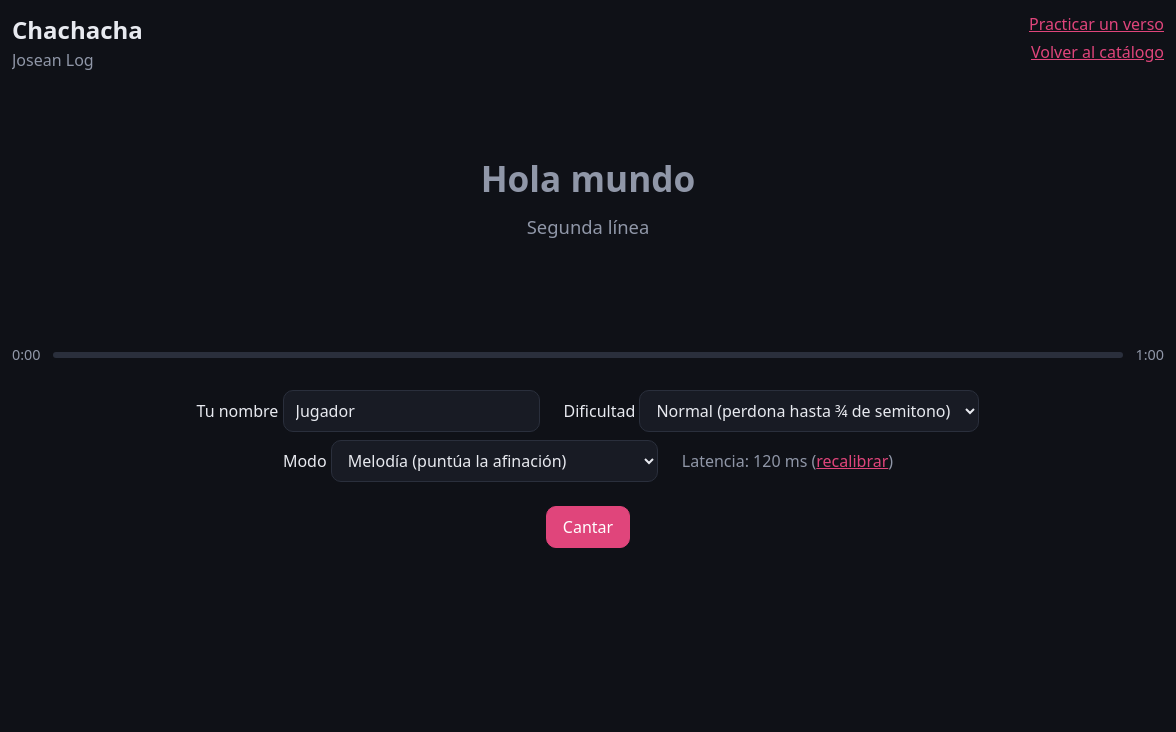
Test case: SongPage › starts a session with the player name and calibrated latency
Expected: the text "Latencia: 120 ms ( recalibrar )" is shown, [682,449,893,473]
Step 1. Replace the text in the field labelled "Tu nombre" with " Ana " → (411, 411), box [282,390,540,432]
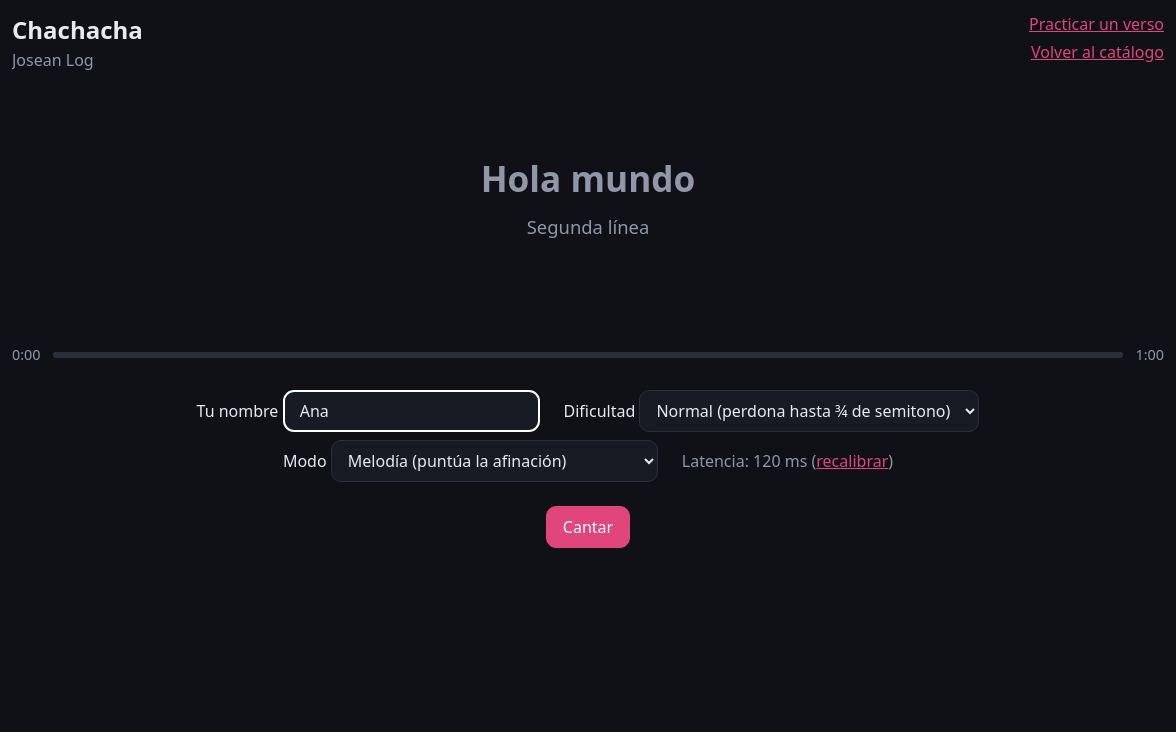
Step 2. Select "Fácil (perdona hasta 1 semitono)" in the dropdown labelled "Dificultad" → (810, 411), box [640,390,980,432]
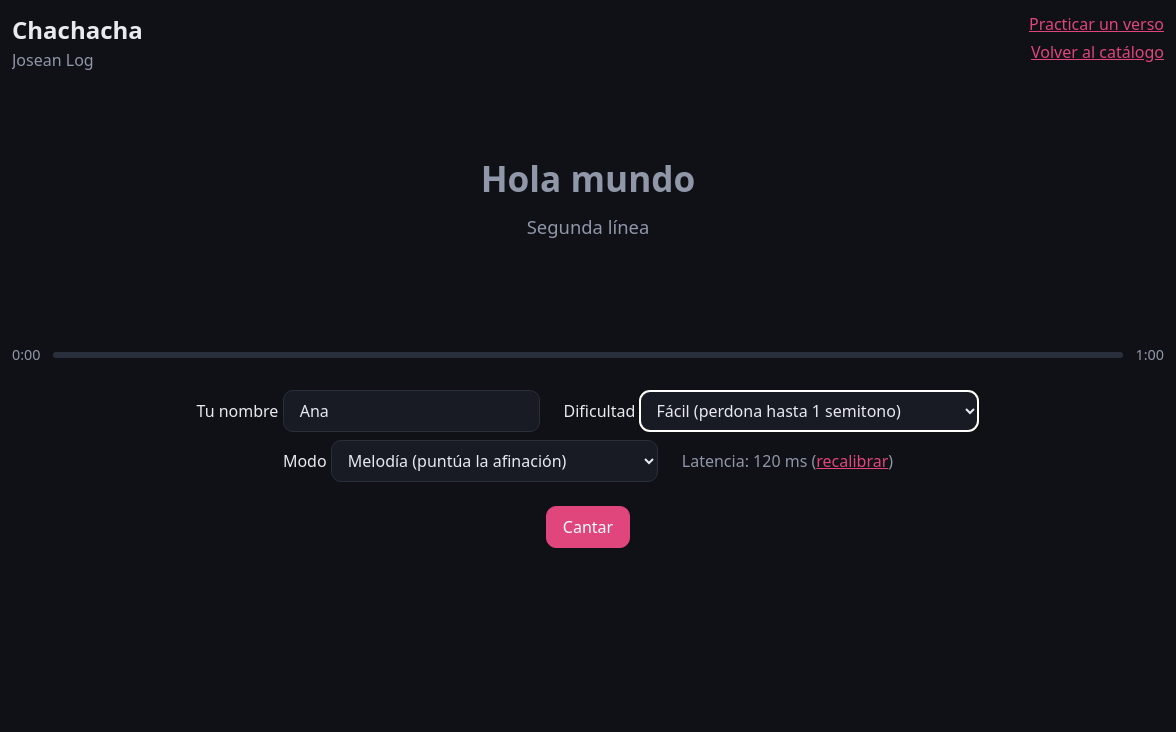
Step 3. Click the button "Cantar" → (588, 527), box [546,506,630,548]
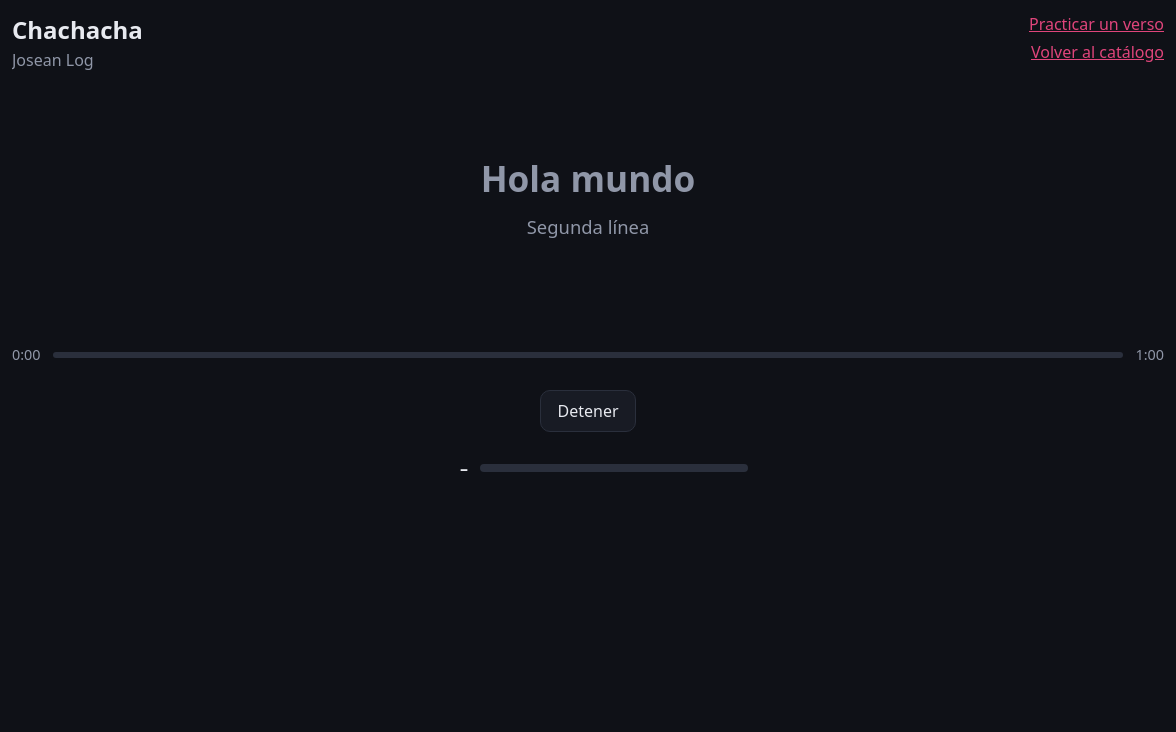
Expected: the button "Detener" is shown, [540,390,636,432]
Expected: the element named "Micrófono" is shown, [428,456,748,480]
